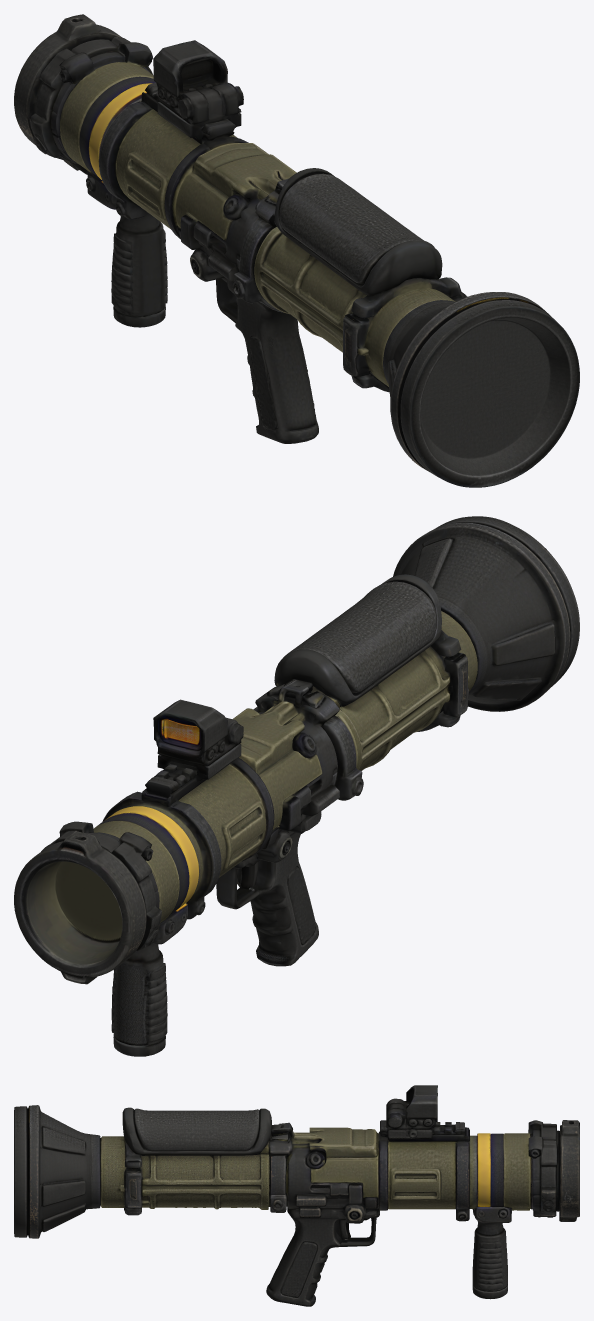
The model's file is launcher.glb.
The picture shows the model from 3 angles, top to bottom: view 1: azimuth 30°, elevation 25°; view 2: azimuth 150°, elevation 25°; view 3: azimuth 270°, elevation 25°; orthographic projection. The views are drawn at different scales.
Visible parts, largest first — view 1: tripo_node_21a2fada-7449-481c-a4e2-3ec5e040bc9c; view 2: tripo_node_21a2fada-7449-481c-a4e2-3ec5e040bc9c; view 3: tripo_node_21a2fada-7449-481c-a4e2-3ec5e040bc9c.
Part boxes in pixels (x1,y1,x2,y2): tripo_node_21a2fada-7449-481c-a4e2-3ec5e040bc9c: [14, 14, 579, 487]; tripo_node_21a2fada-7449-481c-a4e2-3ec5e040bc9c: [14, 516, 579, 1056]; tripo_node_21a2fada-7449-481c-a4e2-3ec5e040bc9c: [14, 1085, 579, 1306].
Size of the model in its own units: 0.2329 by 0.4048 by 0.978.
1 material, 1 textured.
